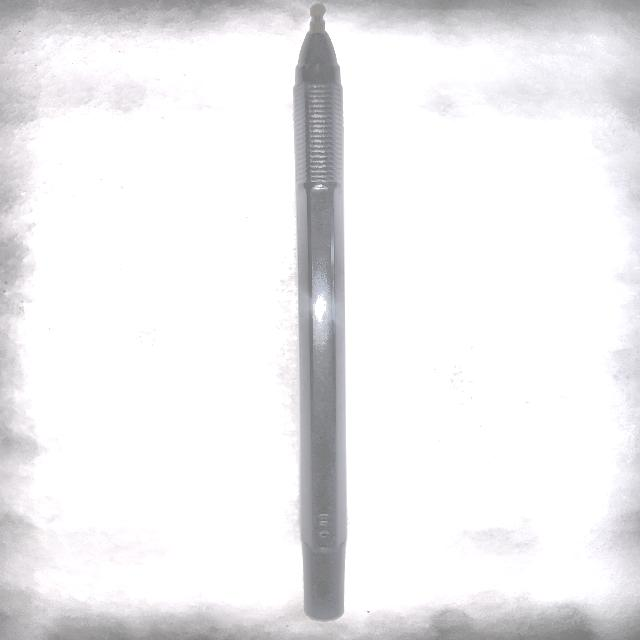Pulpen: (278, 0, 385, 636)
